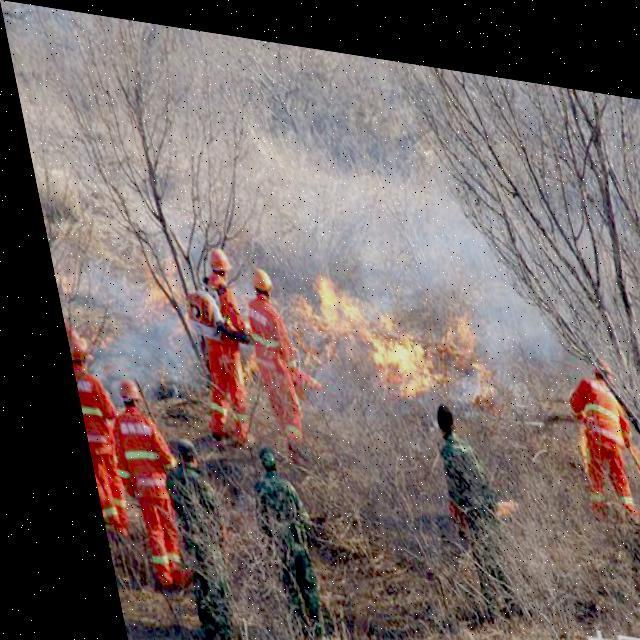Fire: (270, 252, 495, 400), (121, 255, 189, 352)
